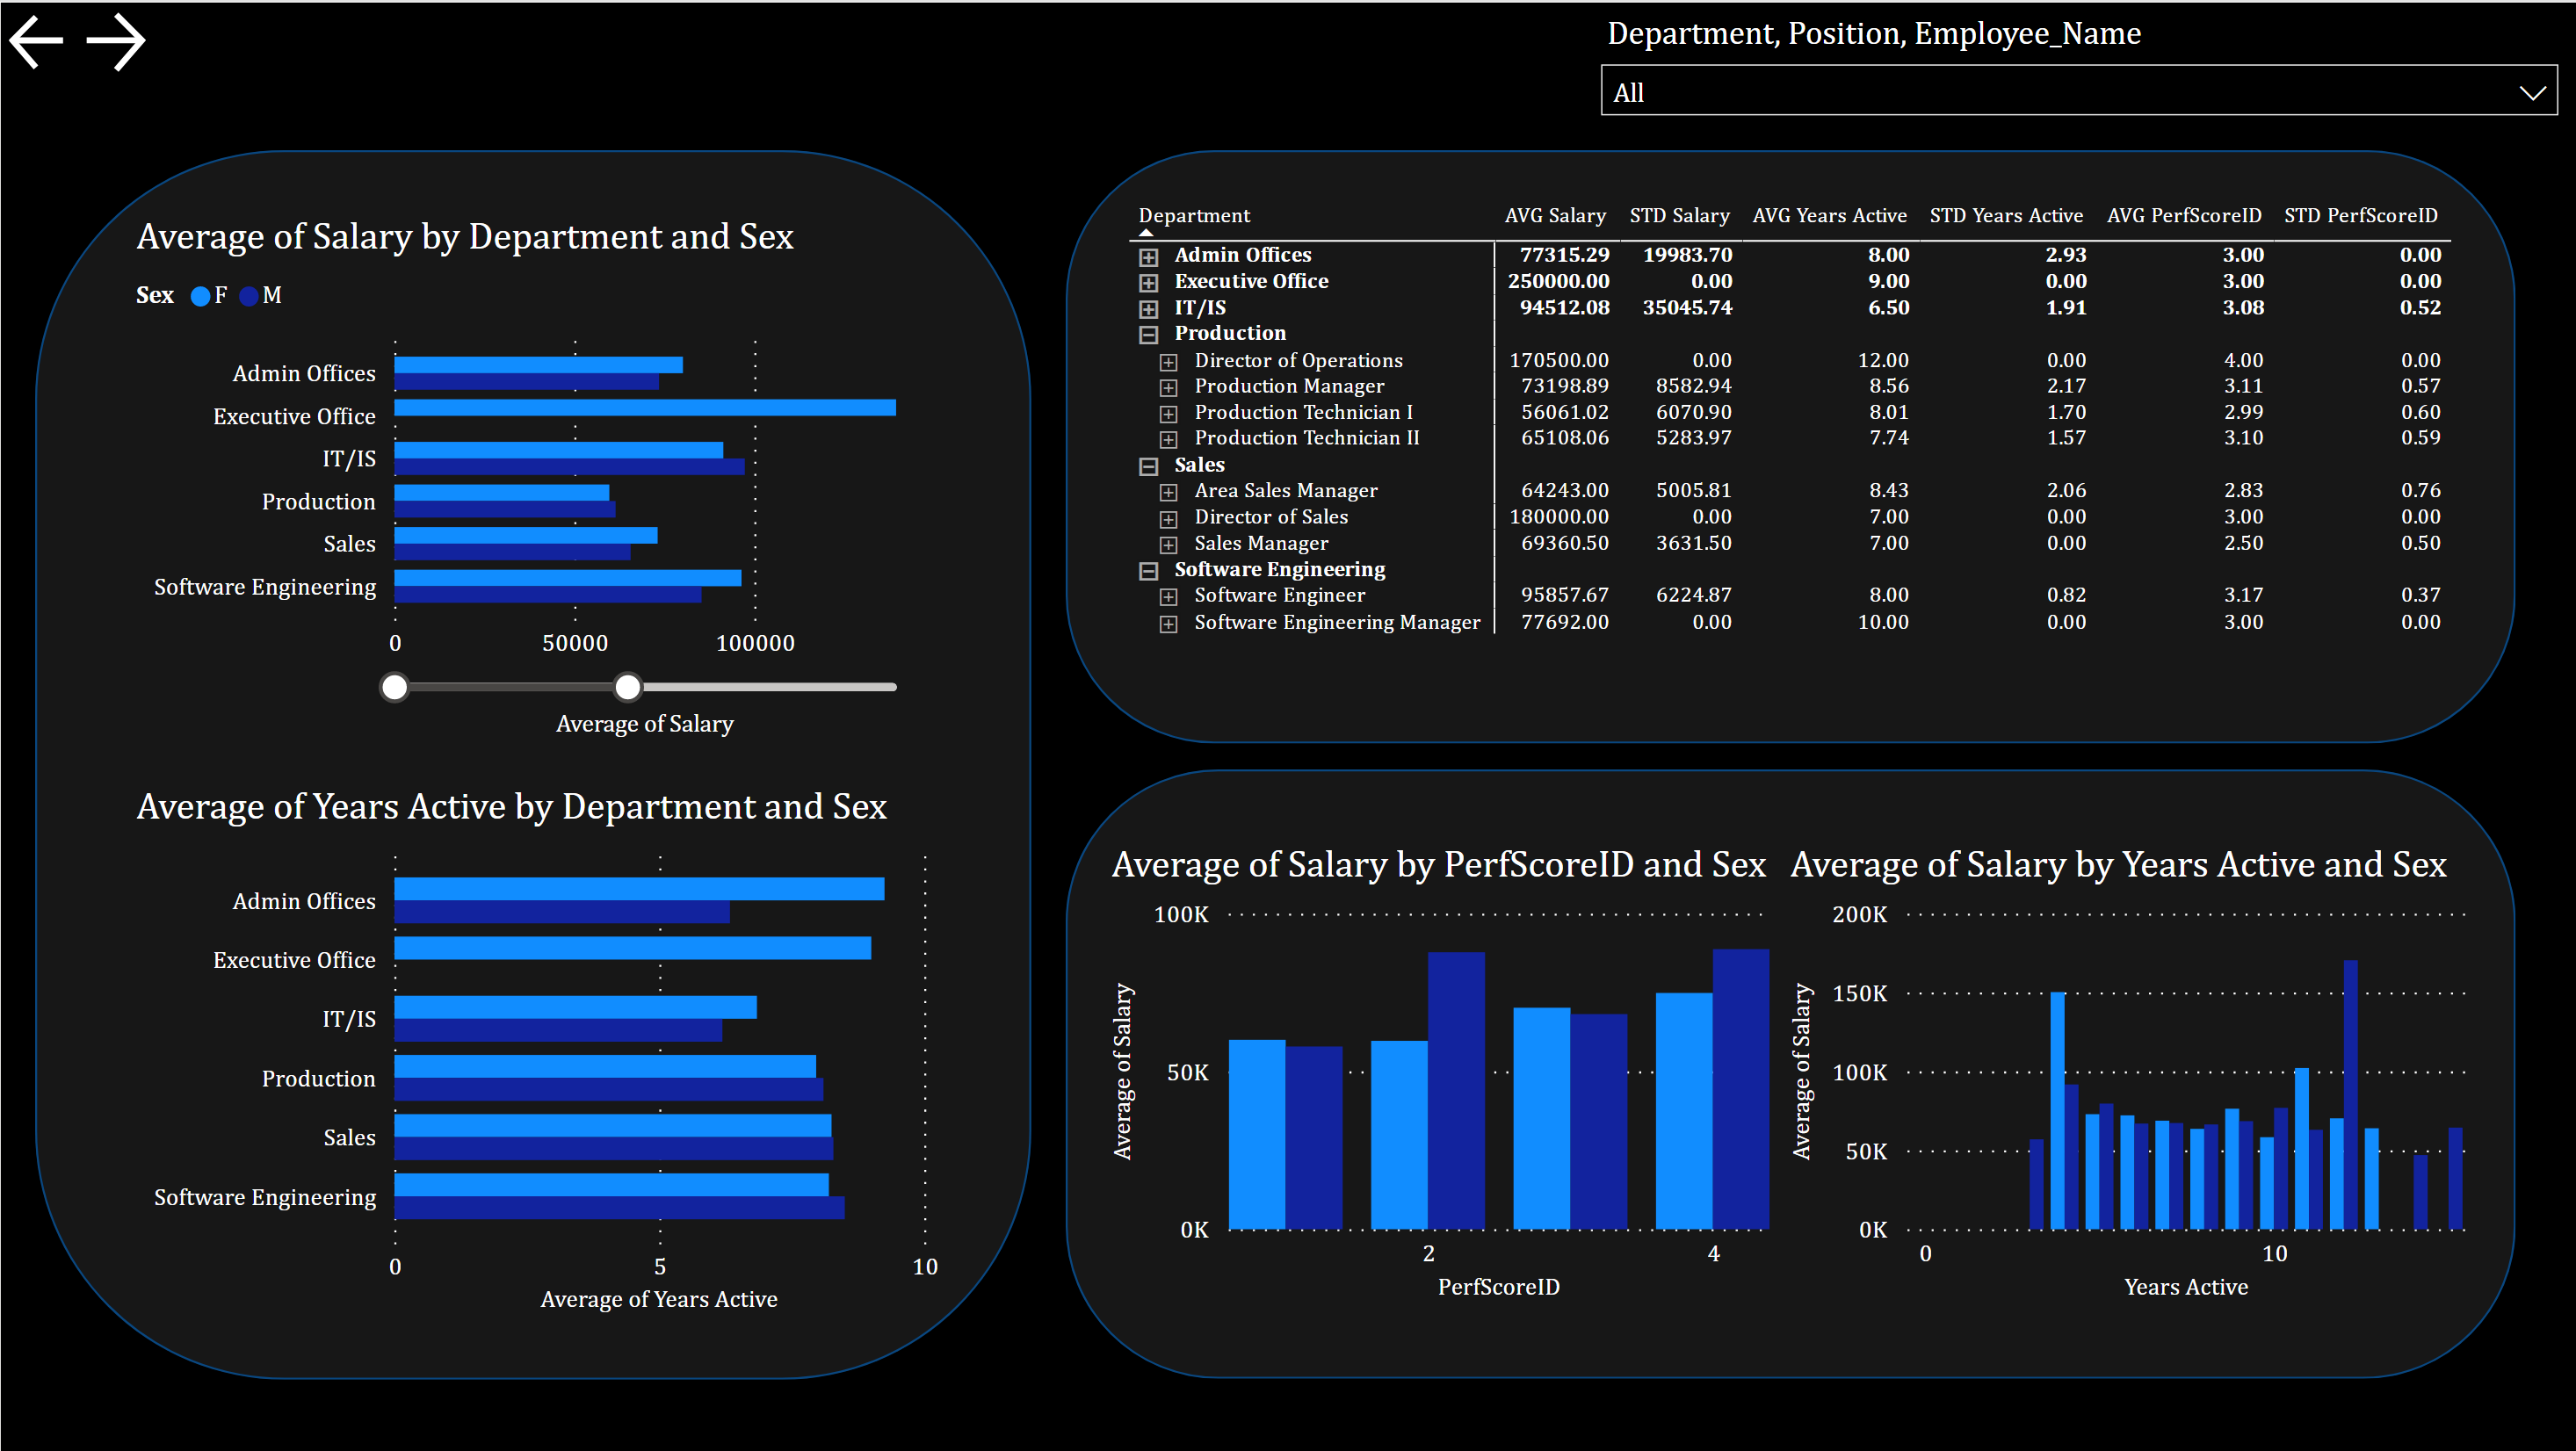

Layout of this report page (visuals, bound fields, positions):
{"tool":"powerbi","page":{"name":"Salary Distribution","canvas":[1280,720],"ordinal":2},"visuals":[{"type":"shape","box":[17.2,73.3,494.7,610.6],"z":0},{"type":"shape","box":[528.8,380.9,719.8,303],"z":500,"group":"g1"},{"type":"shape","box":[528.8,73.3,719.8,294.5],"z":1000},{"type":"clusteredBarChart","fields":{"Y":["HRDataset.Salary"],"Category":["HRDataset.Department"],"Series":["HRDataset.Sex"]},"box":[62.2,103.7,408.3,263.7],"z":2000},{"type":"clusteredColumnChart","fields":{"Series":["HRDataset.Sex"],"Category":["HRDataset.Years Active"],"Y":["HRDataset.Salary"]},"box":[883.5,416.2,345.5,233],"z":3000,"group":"g1"},{"type":"clusteredBarChart","fields":{"Category":["HRDataset.Department"],"Series":["HRDataset.Sex"],"Y":["HRDataset.Years Active"]},"box":[62.2,387.1,408.3,268.3],"z":3000},{"type":"clusteredColumnChart","fields":{"Series":["HRDataset.Sex"],"Y":["HRDataset.Salary"],"Category":["HRDataset.PerfScoreID"]},"box":[546.5,416.2,337,233],"z":4000,"group":"g1"},{"type":"pivotTable","fields":{"Values":["HRDataset.Salary","Sum(HRDataset.Salary)1","HRDataset.Years Active","HRDataset.Years Active","HRDataset.PerfScoreID","CountNonNull(HRDataset.PerfScoreID)1"],"Rows":["HRDataset.Department","HRDataset.Position","HRDataset.Sex","HRDataset.Employee_Name"]},"box":[554.9,93.6,667.5,254.6],"z":4000},{"type":"slicer","fields":{"Values":["HRDataset.Department Hierarchy.Department","HRDataset.Department Hierarchy.Position","HRDataset.Department Hierarchy.Employee_Name"]},"box":[784.6,0,495.4,68.1],"z":5000},{"type":"group","id":"g1","title":"Group 1","box":[528.8,380.9,719.8,303],"z":6000},{"type":"actionButton","box":[0,0,36.6,39.3],"z":7000},{"type":"actionButton","box":[36.6,0,44.6,39.3],"z":8000}]}

Visuals, with their boxes in screenshot pixels (x1, y1, x2, y2), scaled from the page's 1280x720 canvas onto the 2576x1451 screenshot:
shape: bbox=[34, 148, 1031, 1378]
shape: bbox=[1064, 768, 2513, 1378]
shape: bbox=[1064, 148, 2513, 741]
clusteredBarChart - HRDataset.Salary x HRDataset.Department: bbox=[125, 209, 947, 740]
clusteredColumnChart - HRDataset.Sex x HRDataset.Years Active: bbox=[1778, 839, 2473, 1309]
clusteredBarChart - HRDataset.Department x HRDataset.Sex: bbox=[125, 780, 947, 1321]
clusteredColumnChart - HRDataset.Sex x HRDataset.Salary: bbox=[1100, 839, 1778, 1309]
pivotTable - HRDataset.Salary x Sum(HRDataset.Salary)1: bbox=[1117, 189, 2460, 702]
slicer - HRDataset.Department Hierarchy.Department x HRDataset.Department Hierarchy.Position: bbox=[1579, 0, 2575, 137]
"Group 1" group: bbox=[1064, 768, 2513, 1378]
actionButton: bbox=[0, 0, 74, 79]
actionButton: bbox=[74, 0, 163, 79]
